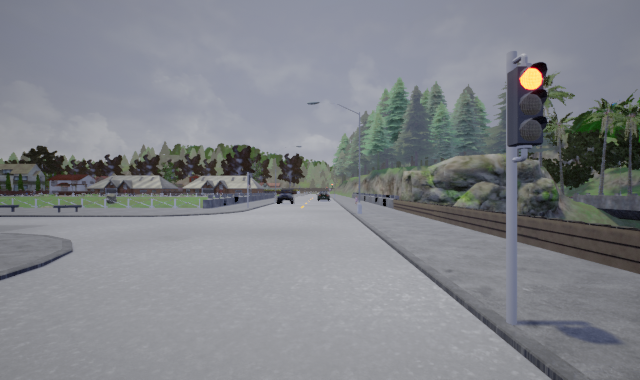vehicle: (276, 189, 295, 204), (316, 192, 329, 202)
